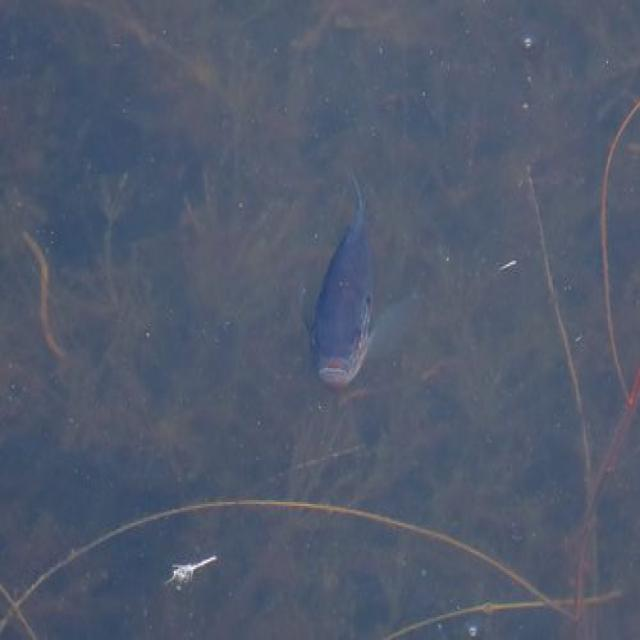Gunes Levregi: (297, 172, 418, 416)
